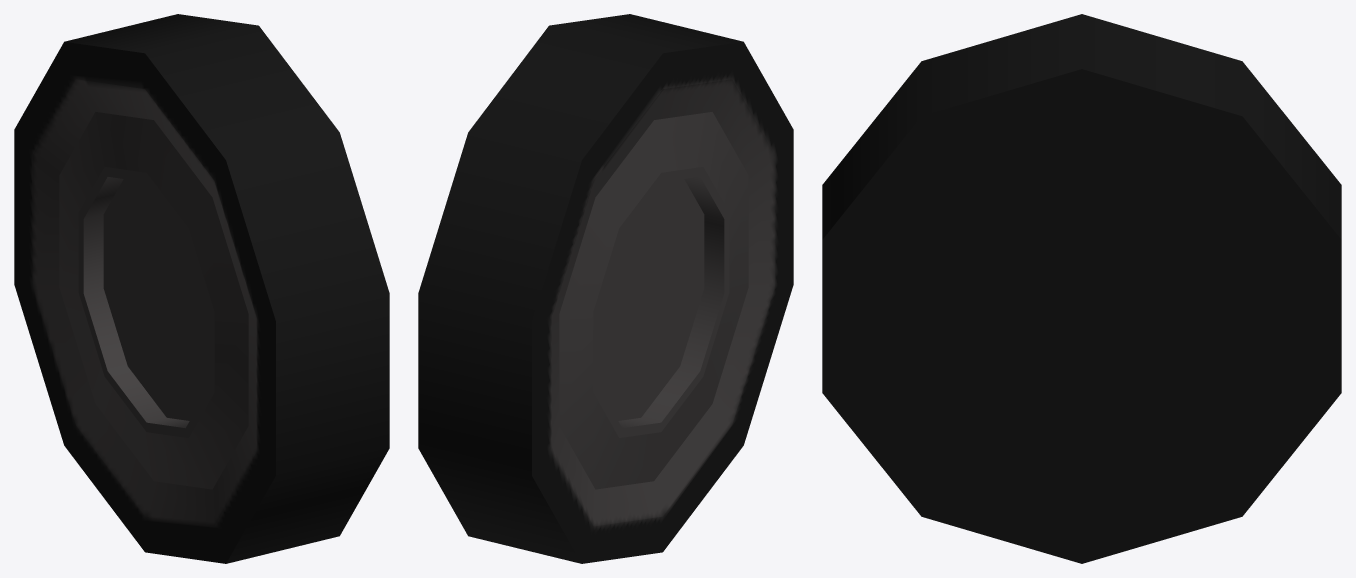
Rendered from cardboard_car5_tire_rear_right.fbx.
3 renders of one model, left to right at view 1: azimuth 30°, elevation 25°; view 2: azimuth 150°, elevation 25°; view 3: azimuth 270°, elevation 25°, orthographic.
Visible parts, largest first — view 1: cardboard_car5_tire3; view 2: cardboard_car5_tire3; view 3: cardboard_car5_tire3.
Part boxes in pixels (box(x1,y1,x2,y2)): cardboard_car5_tire3: box(14, 14, 389, 563); cardboard_car5_tire3: box(418, 14, 793, 563); cardboard_car5_tire3: box(822, 14, 1341, 563).
Size of the model in its own units: 8.99 by 37.66 by 35.82.
